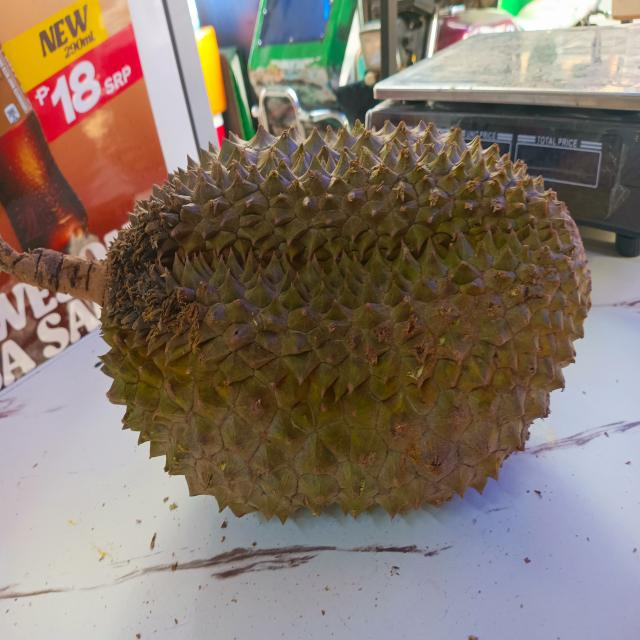mature: (90, 113, 590, 542)
